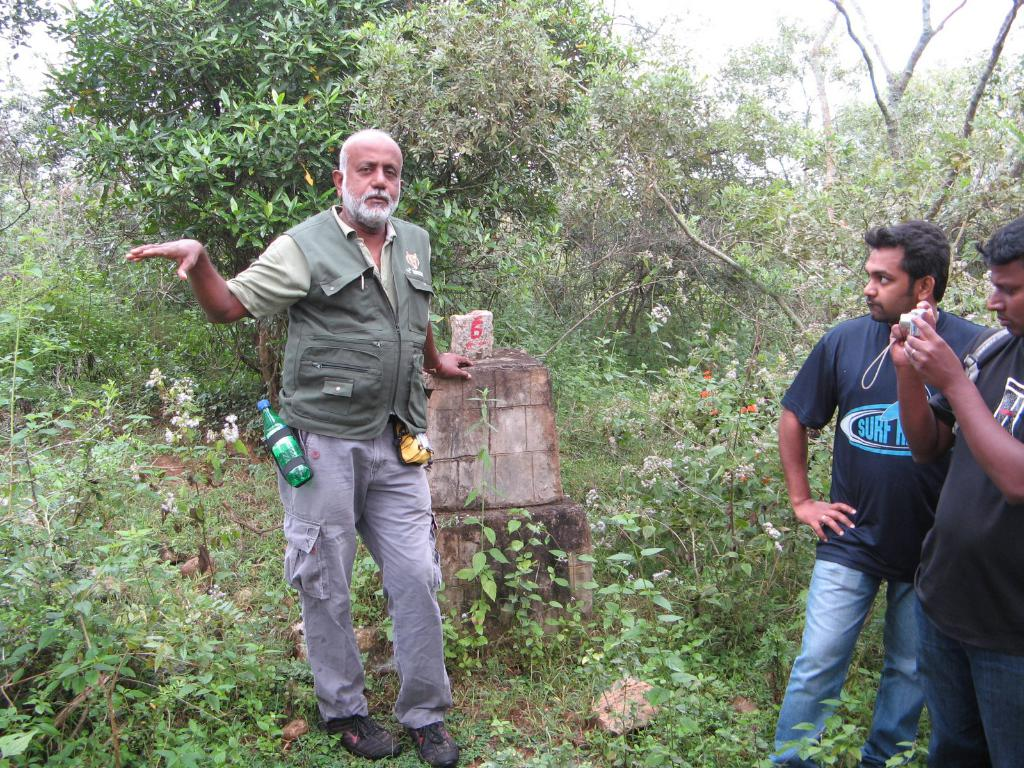Tree: (44, 0, 485, 415), (630, 0, 1023, 350)
